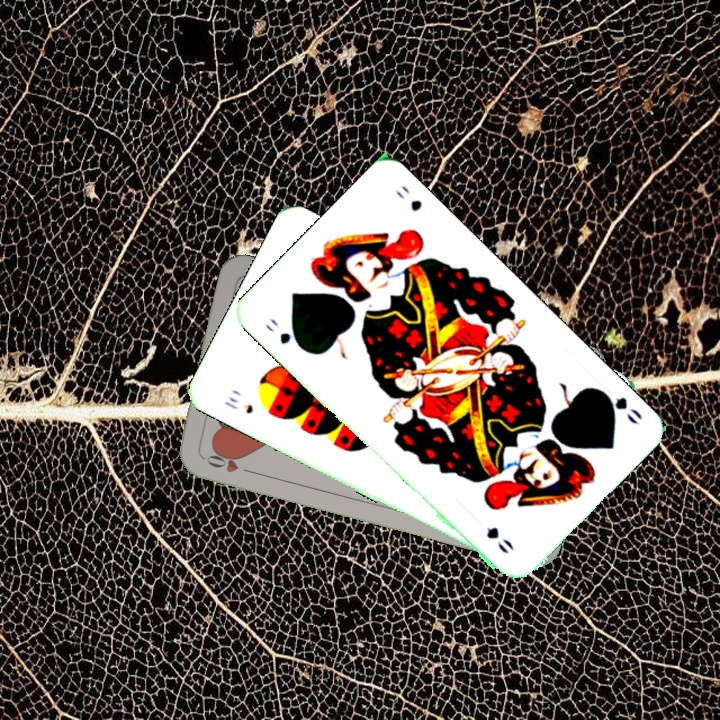GO: (594, 385, 645, 428), (261, 314, 307, 353)
HO: (196, 445, 254, 476)
S10: (220, 392, 256, 417)
